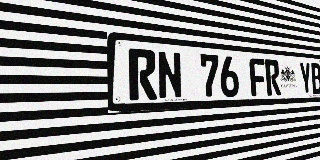6: (219, 55, 240, 97)
7: (199, 54, 221, 98)
B: (310, 63, 320, 94)
F: (249, 58, 267, 96)
N: (157, 50, 183, 100)
R: (128, 48, 157, 101), (265, 59, 281, 96)
Y: (299, 62, 313, 94)
